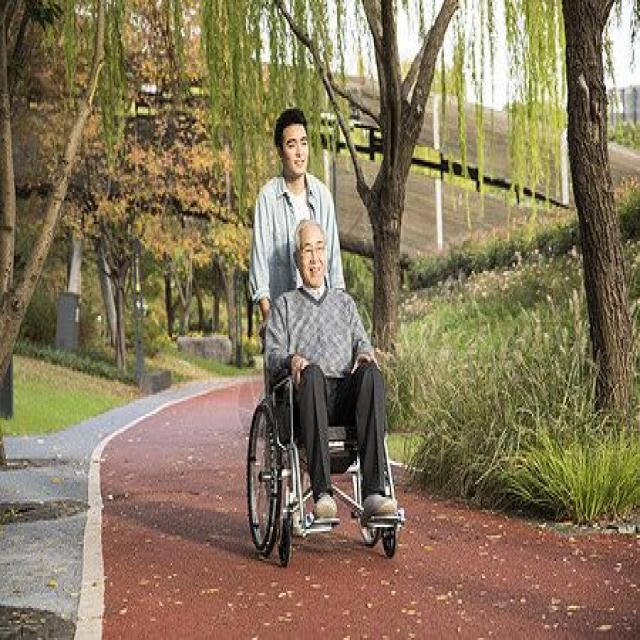wheelchairs: (239, 278, 412, 574)
